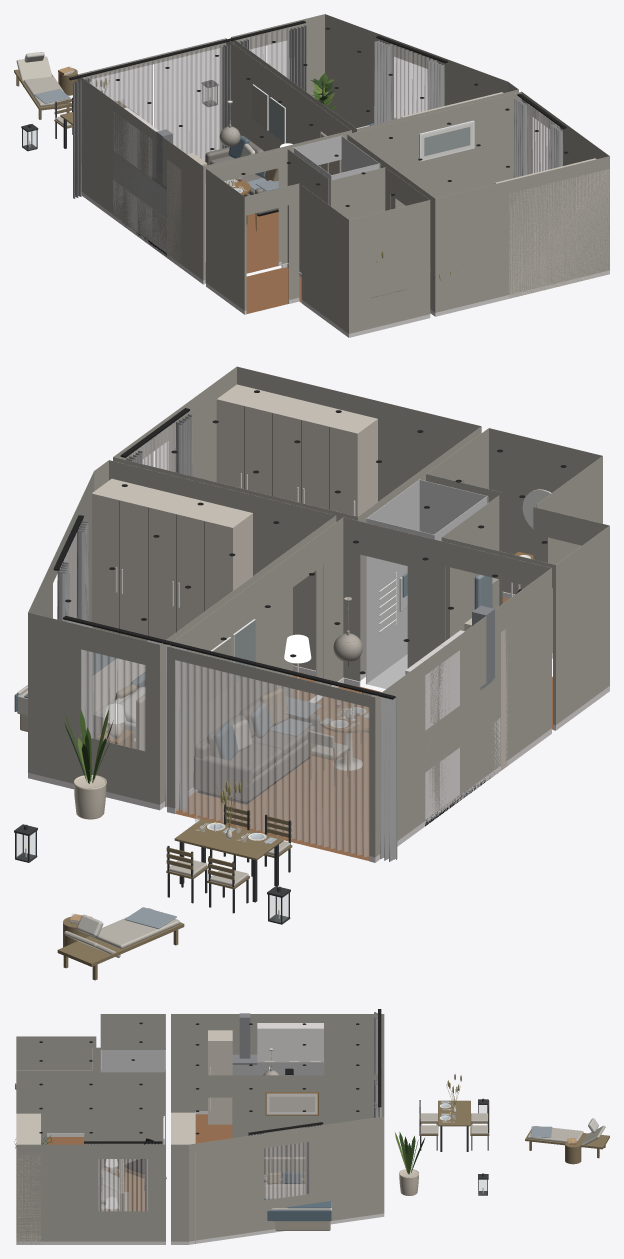
Rendered from unit-0.B-atlantic.glb.
The picture shows the model from 3 angles, top to bottom: view 1: azimuth 30°, elevation 25°; view 2: azimuth 150°, elevation 25°; view 3: azimuth 270°, elevation 25°; orthographic projection. The views are drawn at different scales.
Parts seen in each view (by area): view 1: int-wall, int-sheer, int-joineryTall, int-curtain, int-joinery, int-skirting, int-bathWall, int-floor, int-hallFloor, int-matteBlack, int-splash, int-outCushion (+10 smaller); view 2: int-wall, int-joineryTall, int-sheer, int-floor, int-curtain, int-bathWall, int-teak, int-sofa, int-joinery, int-outdoor, int-matteBlack, int-skirting (+13 smaller); view 3: int-wall, int-sheer, int-joineryTall, int-joinery, int-teak, int-bathWall, int-skirting, int-floor, int-headboard, int-outCushion, int-curtain, int-splash (+9 smaller).
Boxes of the visible parts, x1,y1,x2,y2 form: int-wall: (77, 14, 609, 333); int-sheer: (84, 27, 559, 174); int-joineryTall: (167, 92, 609, 298); int-curtain: (73, 25, 563, 198); int-joinery: (113, 107, 166, 252); int-skirting: (81, 192, 609, 337); int-bathWall: (293, 135, 380, 206); int-floor: (205, 212, 278, 283); int-hallFloor: (246, 267, 301, 313); int-matteBlack: (69, 20, 566, 256); int-splash: (113, 153, 166, 217); int-outCushion: (16, 56, 72, 126); int-wall: (28, 366, 609, 857); int-joineryTall: (92, 384, 508, 770); int-sheer: (57, 420, 369, 857); int-floor: (175, 671, 381, 860); int-curtain: (57, 414, 397, 861); int-bathWall: (365, 479, 488, 684); int-teak: (57, 806, 292, 980); int-sofa: (193, 691, 321, 801); int-joinery: (405, 630, 500, 819); int-outdoor: (14, 804, 290, 924); int-matteBlack: (53, 408, 497, 826); int-skirting: (28, 591, 609, 862); int-wall: (16, 1014, 384, 1241); int-sheer: (98, 1020, 381, 1211); int-joineryTall: (16, 1030, 232, 1244); int-joinery: (257, 1023, 323, 1062); int-teak: (419, 1100, 609, 1164); int-bathWall: (100, 1050, 165, 1072); int-skirting: (16, 1111, 384, 1244); int-floor: (118, 1114, 232, 1210); int-headboard: (120, 1157, 330, 1230); int-outCushion: (420, 1113, 605, 1147); int-curtain: (85, 1012, 379, 1211); int-splash: (232, 1058, 324, 1075).
Size of the model in its own units: 7.77 by 2.82 by 14.48.
